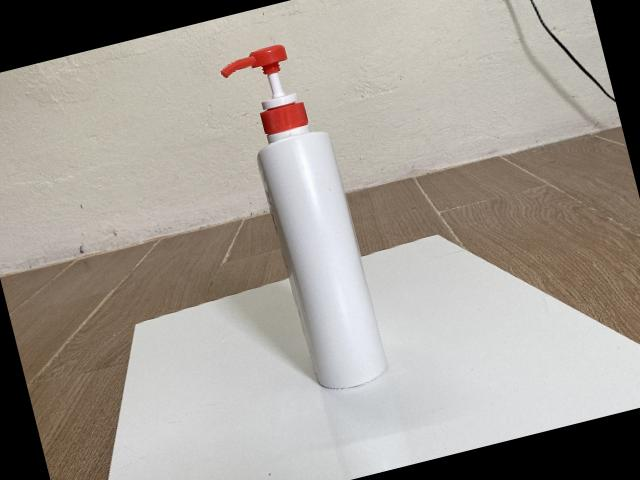life-buoy: (220, 45, 388, 391)
